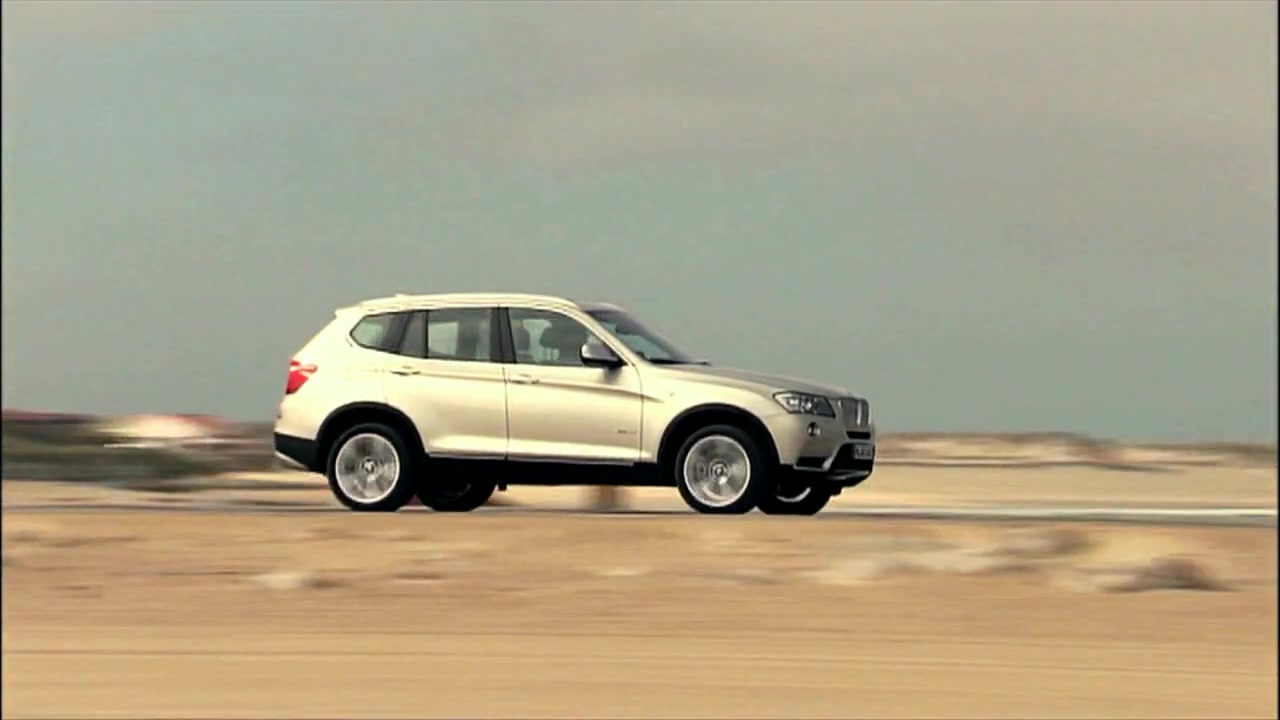car: (272, 293, 878, 518)
